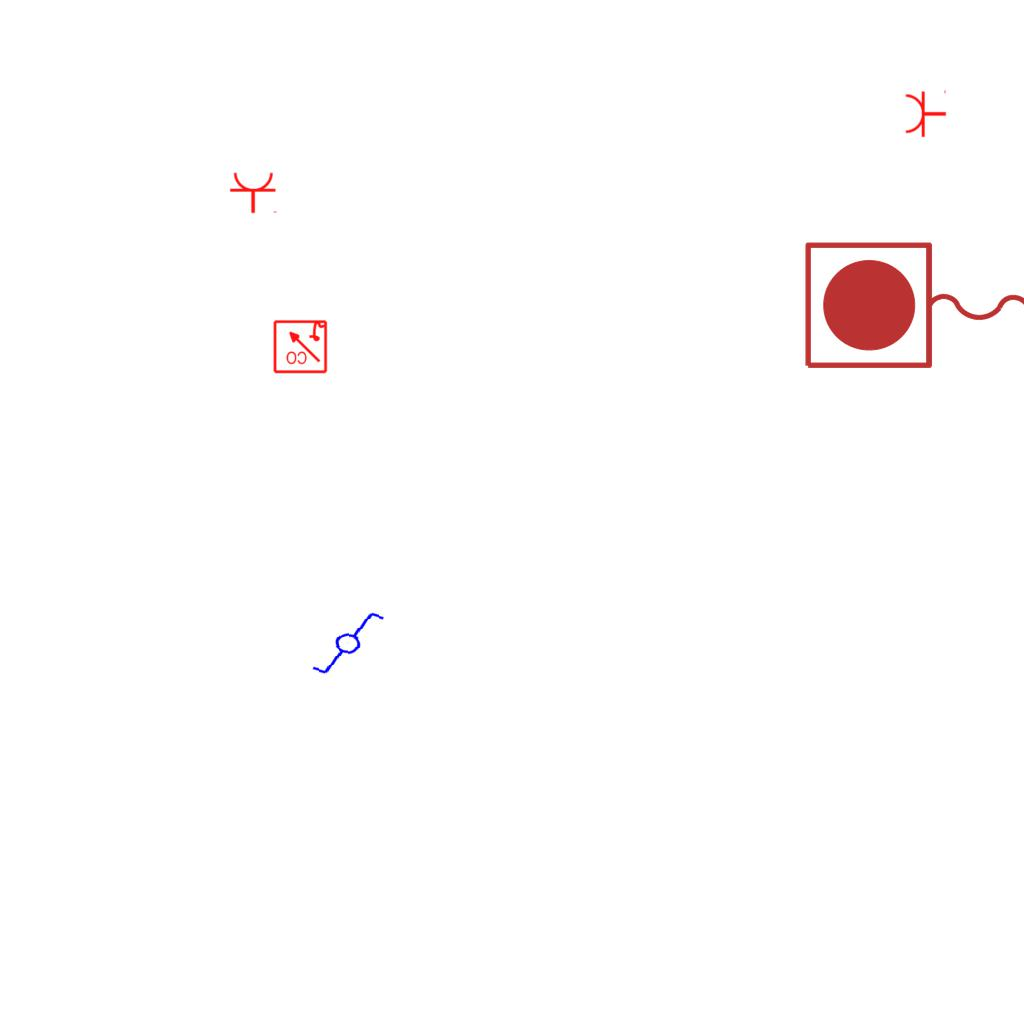ROA_Rauchmelder_optisch_mit_Signalgeber_(Sockelsirene): (272, 318, 328, 374)
Schukosteckdose_einfach: (904, 88, 947, 138), (229, 171, 279, 214)
Wechselschalter: (301, 602, 387, 682)
Zugtaster: (797, 235, 1024, 379)
